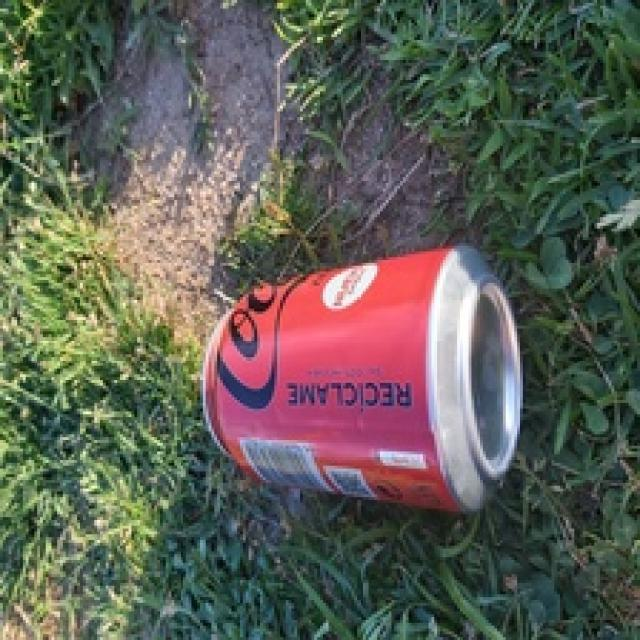recyclable: (201, 243, 524, 512)
